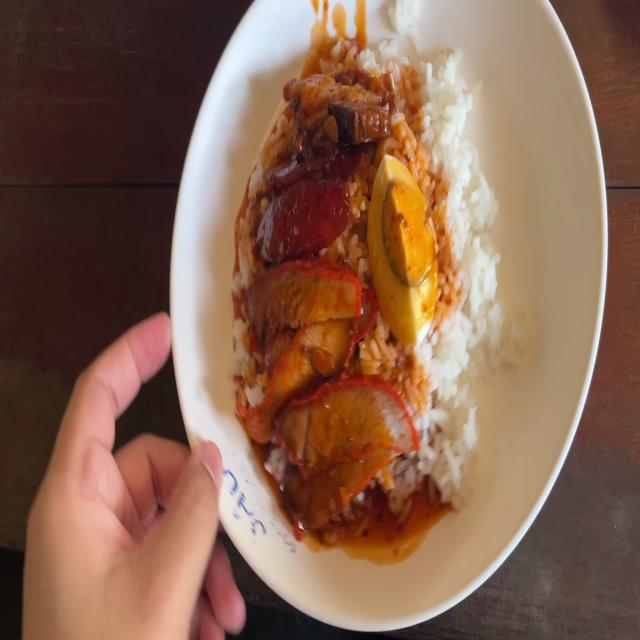01boiled_egg: (374, 151, 434, 348)
01chainese_sausage: (255, 153, 355, 255)
01crispy_pork: (286, 61, 390, 152)
01red_pork: (246, 271, 392, 495)
01red_pork_and_crispy_pork: (244, 46, 499, 502)
01rice: (436, 160, 496, 361), (392, 41, 477, 155), (413, 361, 478, 508)
